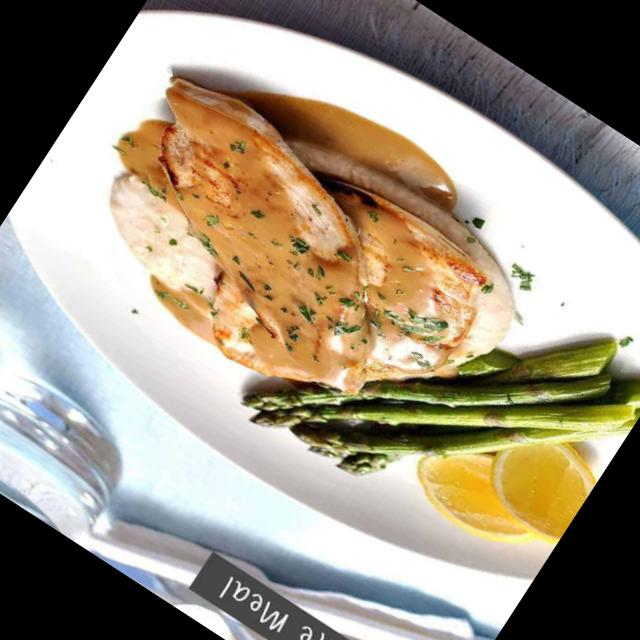chicken: (70, 51, 480, 420)
